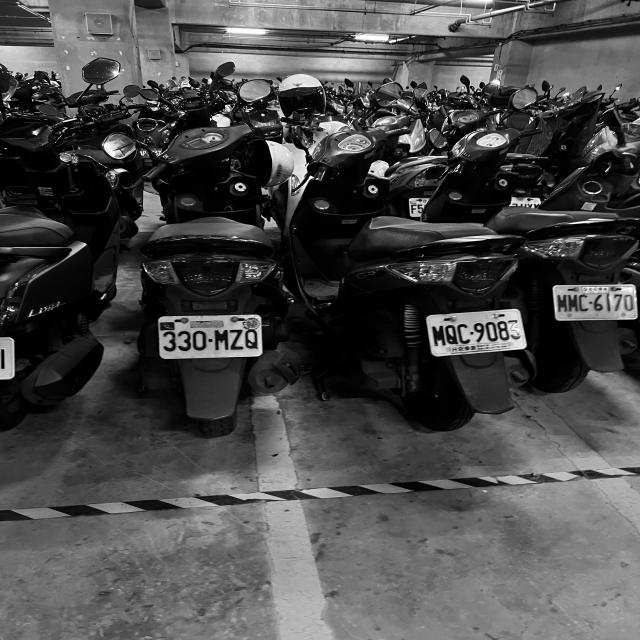-: (589, 300, 593, 306), (208, 338, 212, 343), (470, 332, 474, 336)
0: (192, 331, 208, 352), (484, 321, 499, 342), (624, 293, 634, 311)
1: (0, 348, 6, 371), (606, 294, 613, 312)
3: (162, 330, 176, 352), (507, 319, 521, 340), (178, 331, 192, 351)
6: (594, 294, 604, 310)
7: (613, 293, 623, 311)
8: (496, 320, 511, 341)
9: (473, 322, 487, 344)
C: (456, 323, 471, 344), (578, 294, 590, 312)
F: (411, 204, 416, 214)
M: (430, 324, 447, 347), (213, 329, 229, 350), (567, 294, 579, 312), (558, 294, 568, 312)
Q: (444, 324, 461, 345), (244, 330, 258, 350)
Z: (228, 330, 244, 350)
plate: (427, 310, 526, 356), (159, 316, 261, 356), (554, 286, 636, 318)
